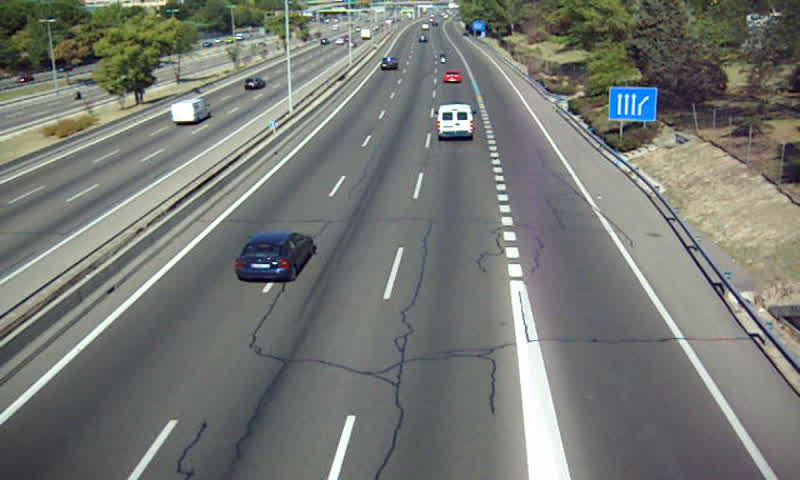car: (234, 231, 315, 280), (443, 71, 463, 87), (379, 57, 398, 73)
van: (436, 104, 473, 138)
